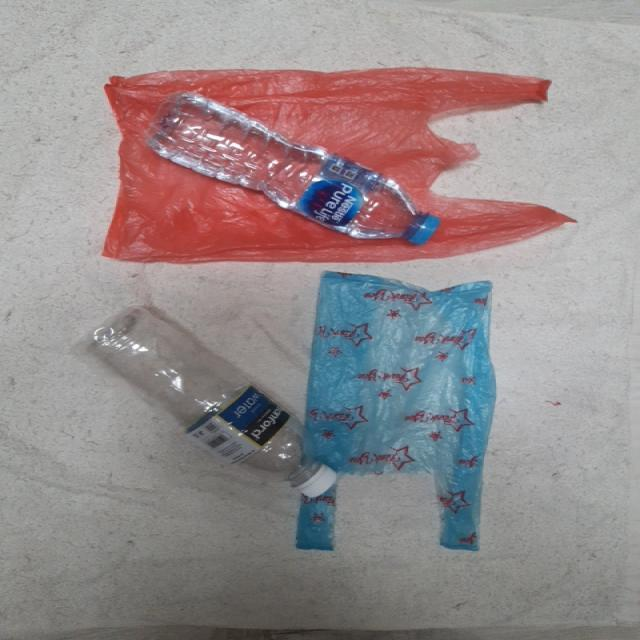Single-layer Plastic: (104, 68, 571, 262), (297, 272, 495, 551)
